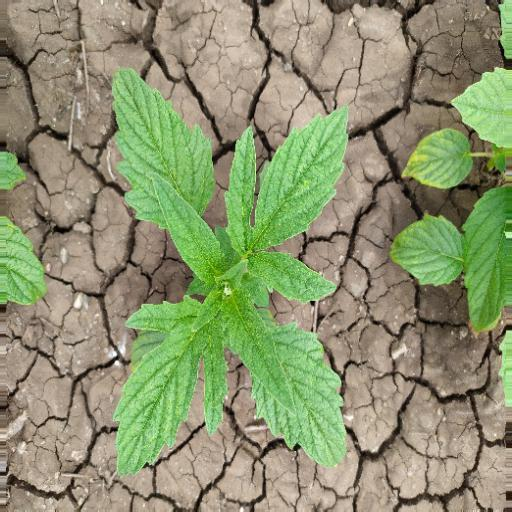crop: (91, 65, 358, 492)
